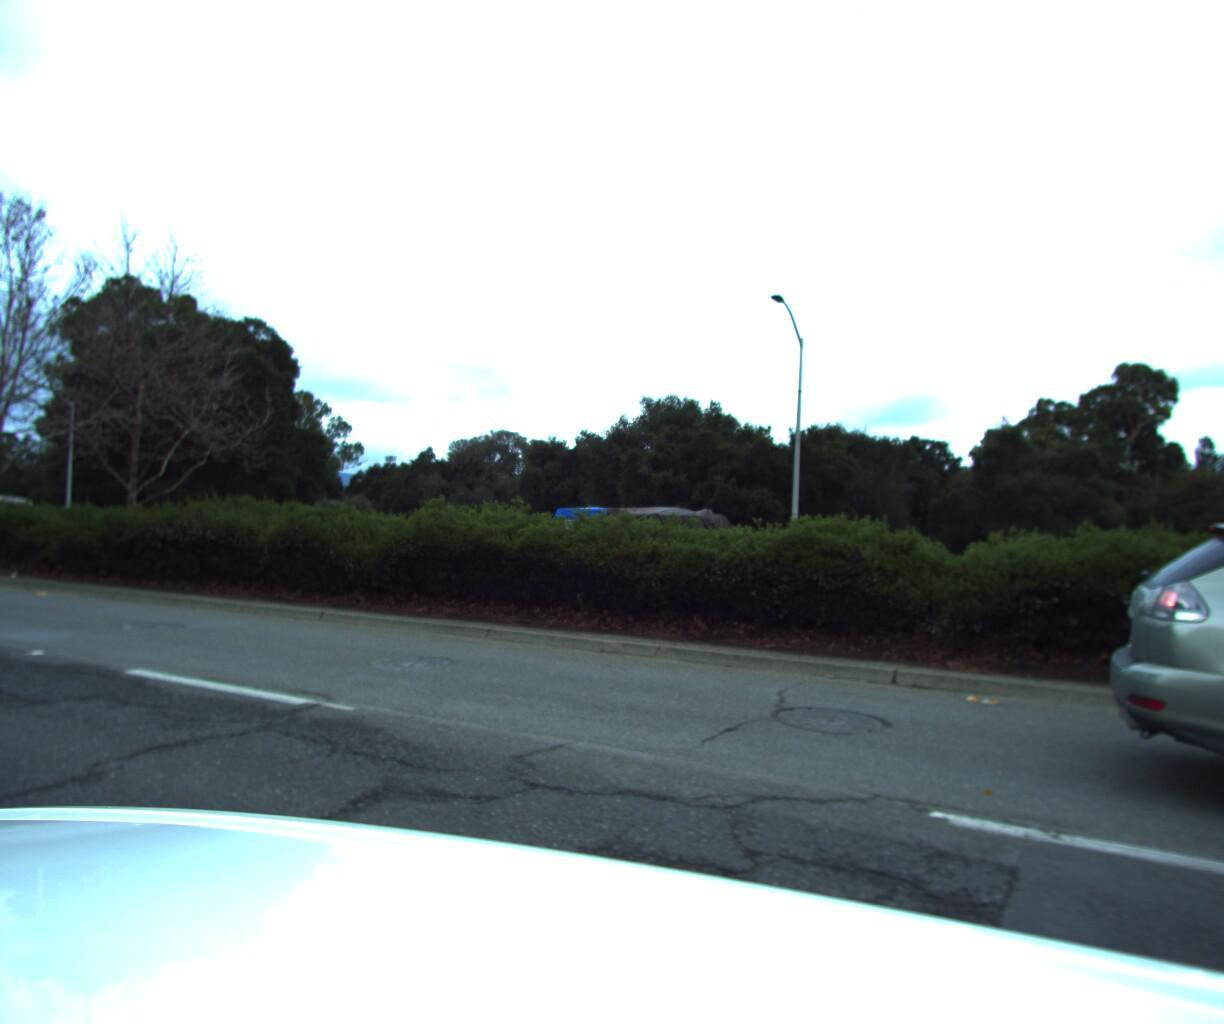car: (1033, 486, 1224, 1024)
other_vehicle: (545, 500, 739, 565), (0, 485, 36, 543)
